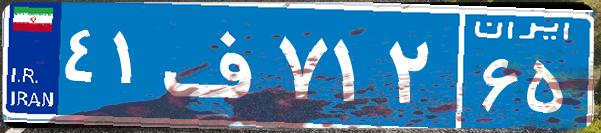1: (330, 28, 385, 110), (110, 28, 158, 105)
2: (385, 28, 445, 110)
4: (57, 26, 110, 107)
5: (525, 38, 570, 115)
6: (475, 38, 525, 113)
7: (273, 28, 330, 110)
ف: (158, 15, 273, 115)
